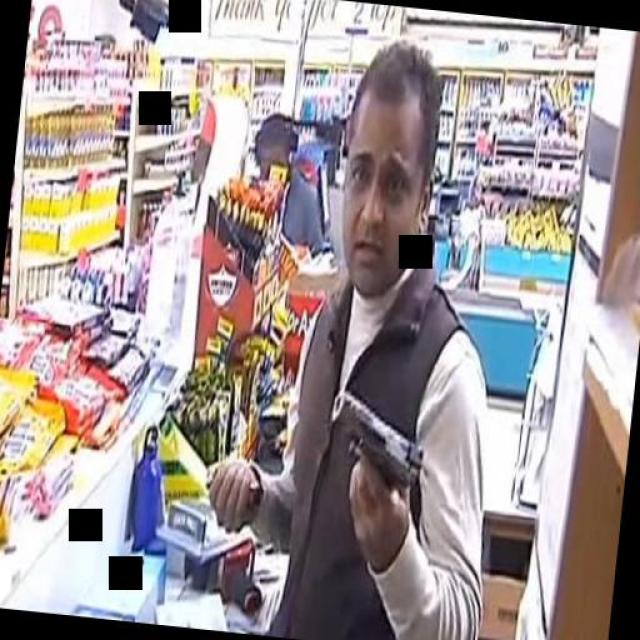gun: (320, 381, 436, 500)
